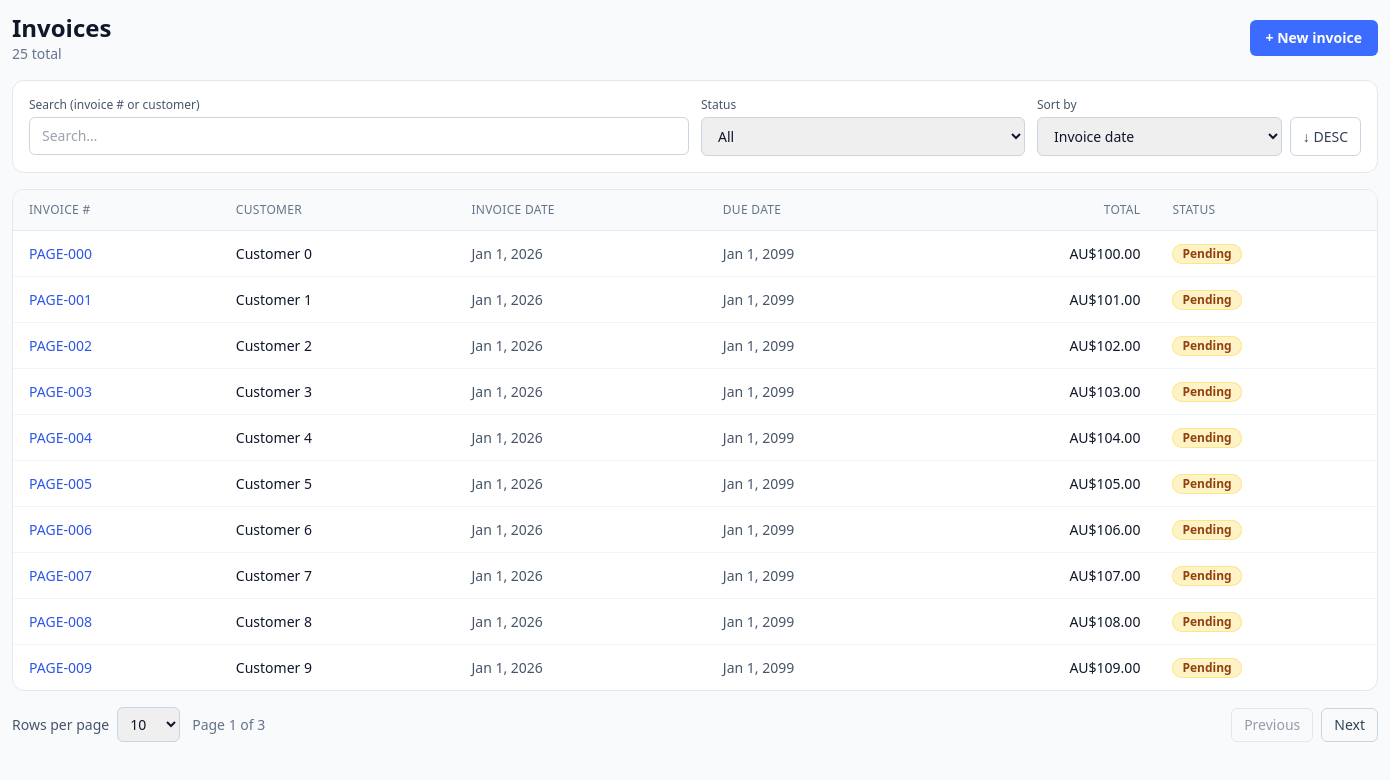
Test case: InvoiceListPage › pages forward and backward through results
Expected: the row with test id "invoice-row" that starts with "PAGE-000" is shown, [13,230,1377,276]
Expected: the text "PAGE-000" is shown, [13,230,220,276]
# Next → page 2.
Click the button "Next": (1350,724) [1321,708,1378,742]
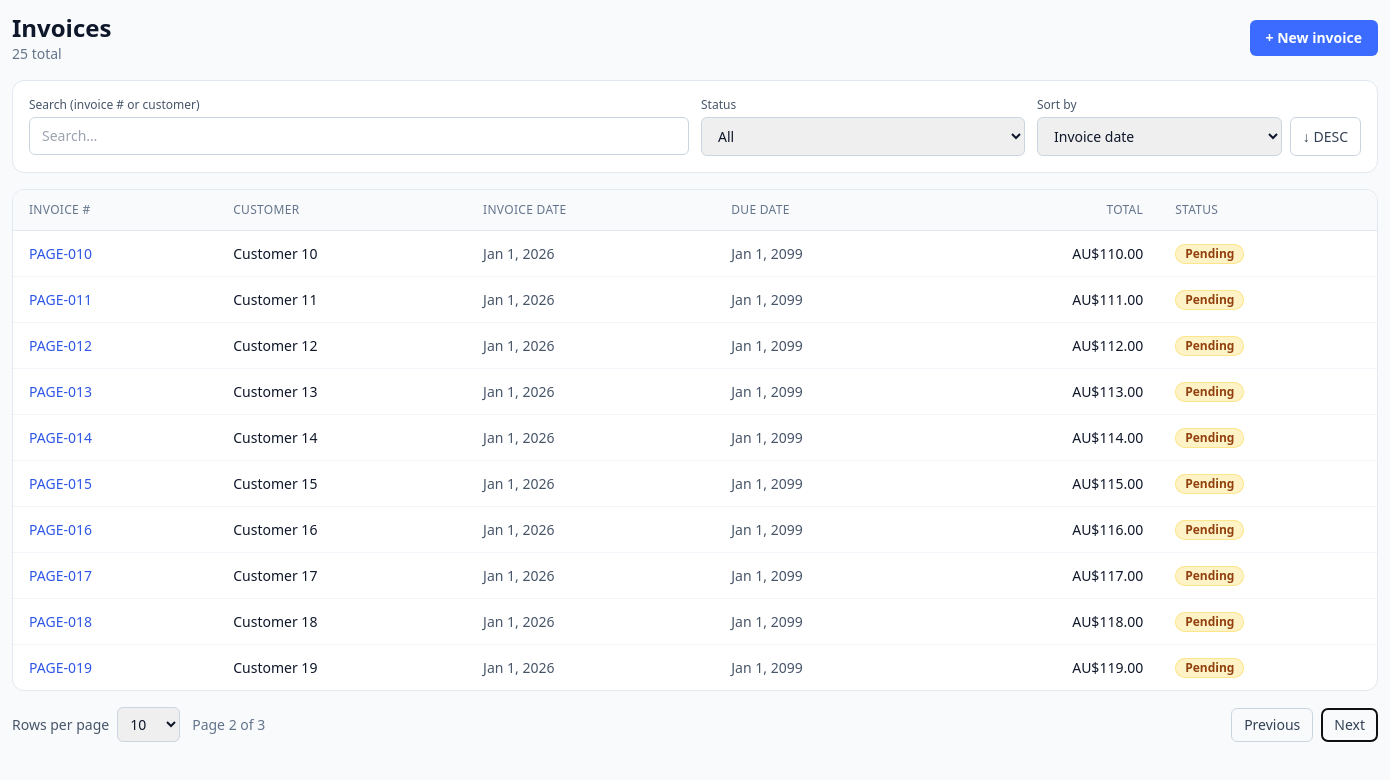
Result: the text "PAGE-010" is shown at [13,230,217,276]
Result: the text "Page 2 of 3" is shown at [192,714,265,734]
# Previous → back to page 1.
Click the button "Previous": (1272,724) [1231,708,1313,742]
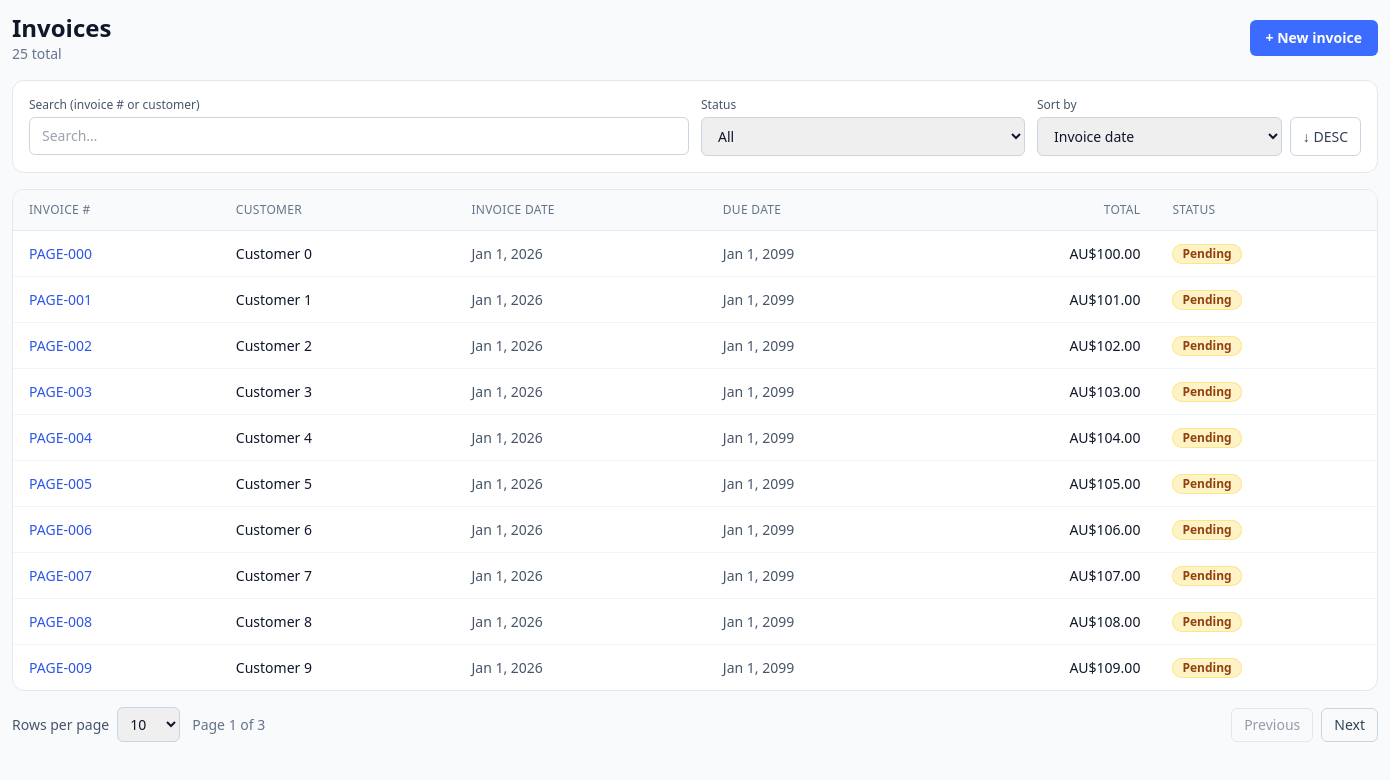
Result: the text "PAGE-000" is shown at [13,230,220,276]
Result: the text "Page 1 of 3" is shown at [192,714,265,734]
